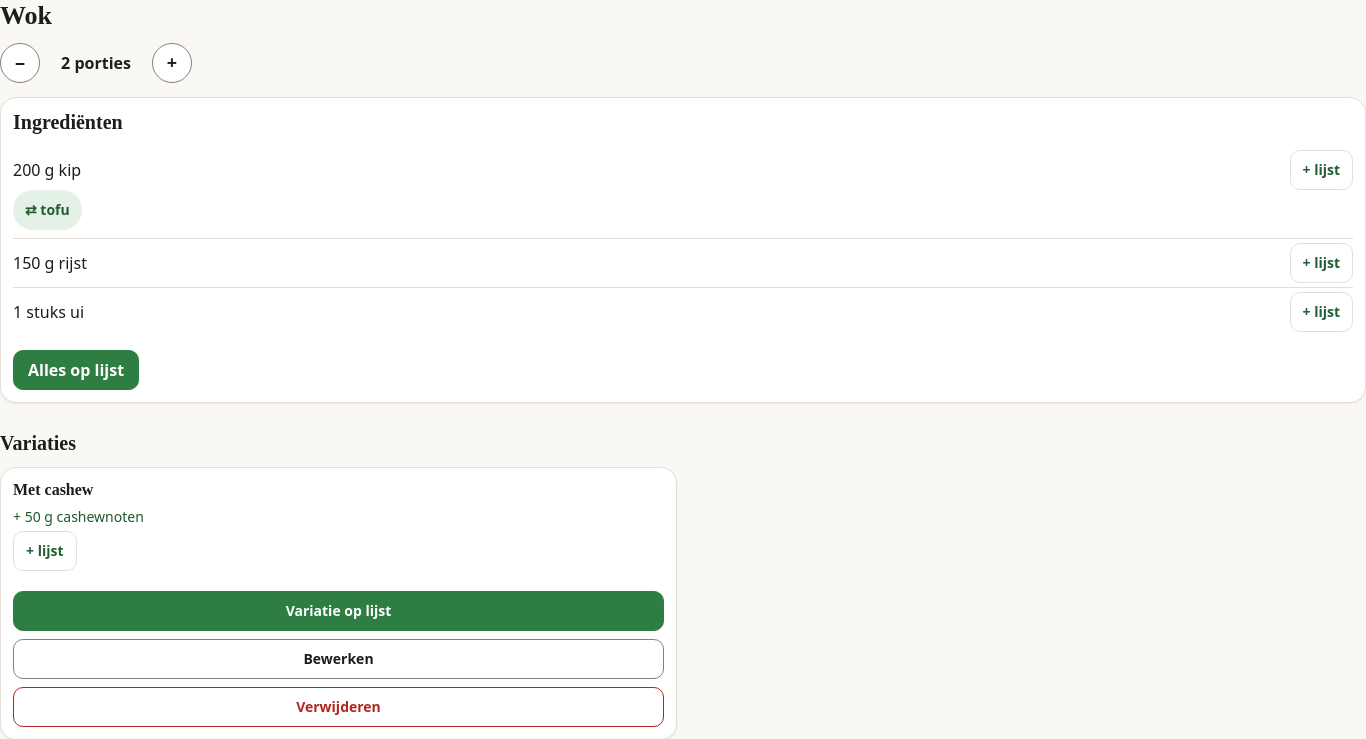
Test: RecipeDetailView: wat al op de boodschappenlijst staat › "+ lijst" wordt meteen "✓ op lijst", en een tik daarop haalt het weer weg
Click the button "+ lijst" in the row of "200 g kip": coordinates (1321, 170) [1290,150,1353,190]
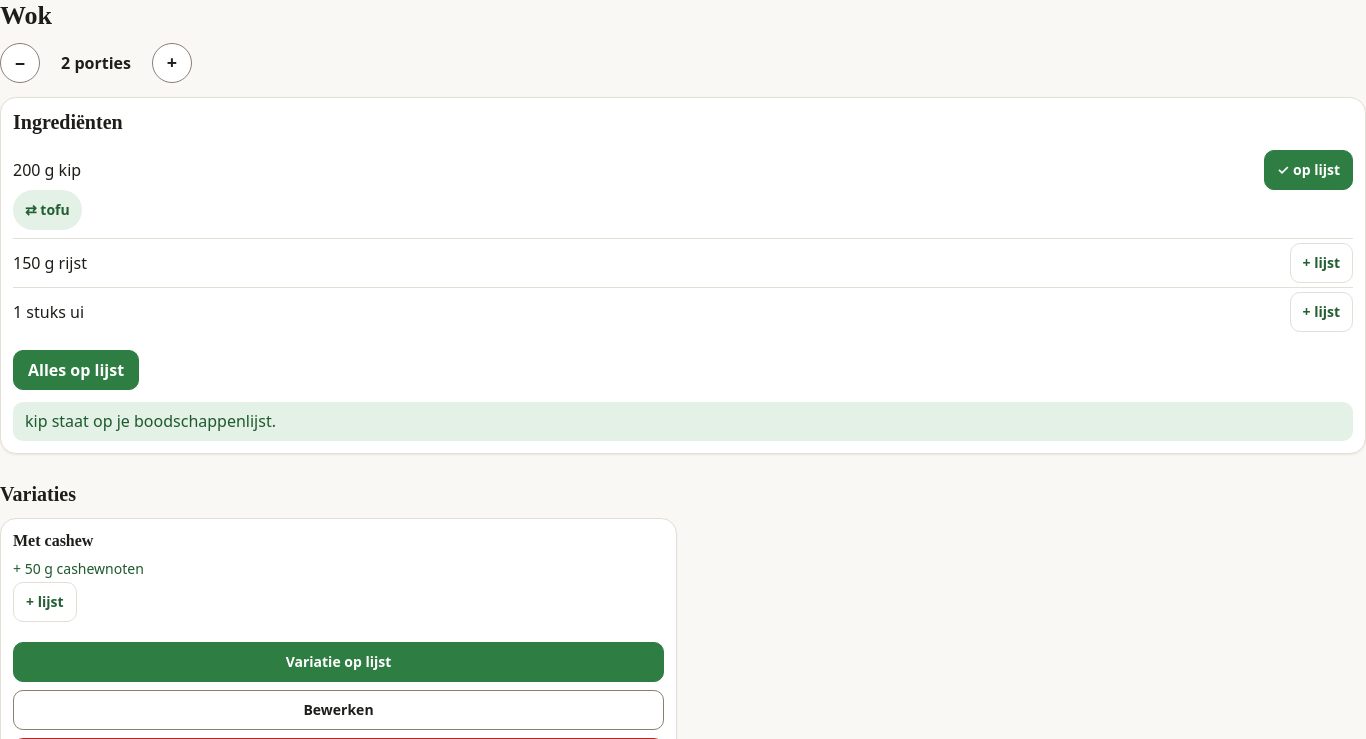
Click the button "✓ op lijst": coordinates (1308, 170) [1264,150,1353,190]
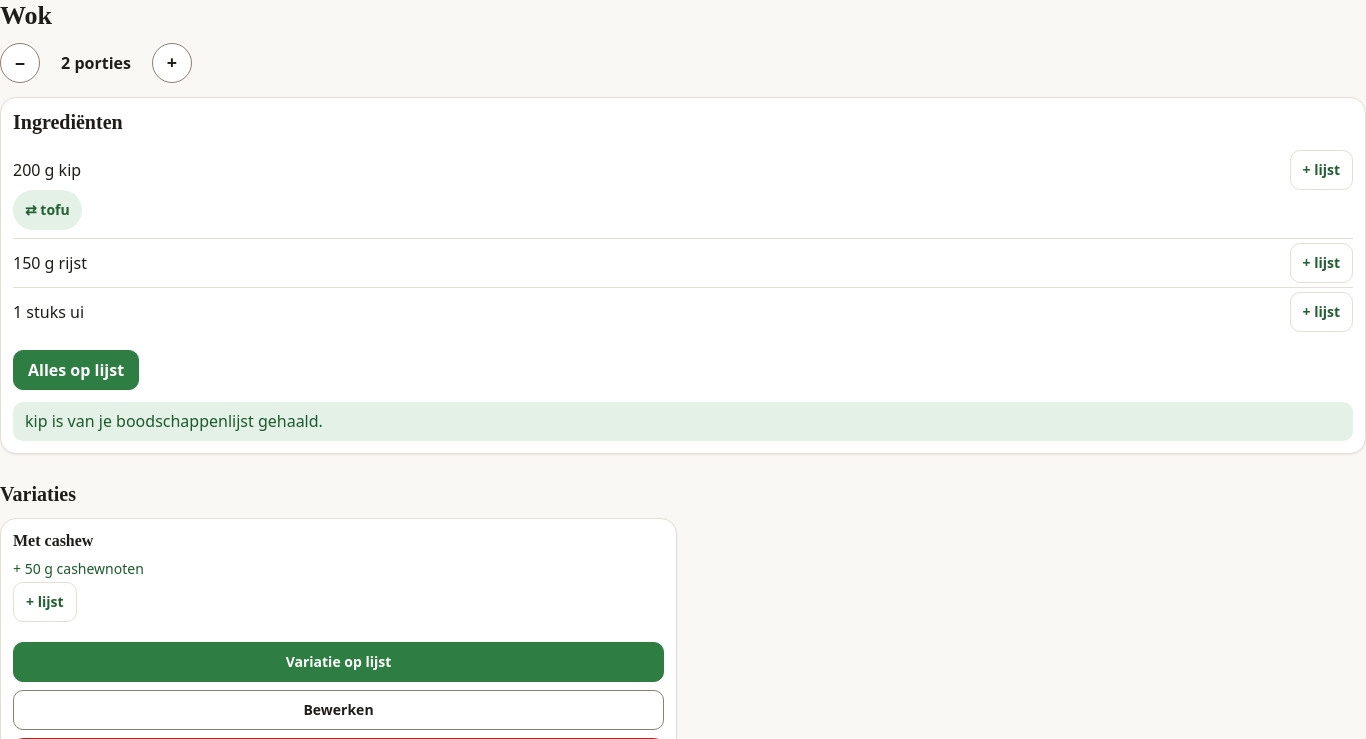
Result: the message "kip is van je boodschappenlijst gehaald." is shown at [13,402,1353,441]
